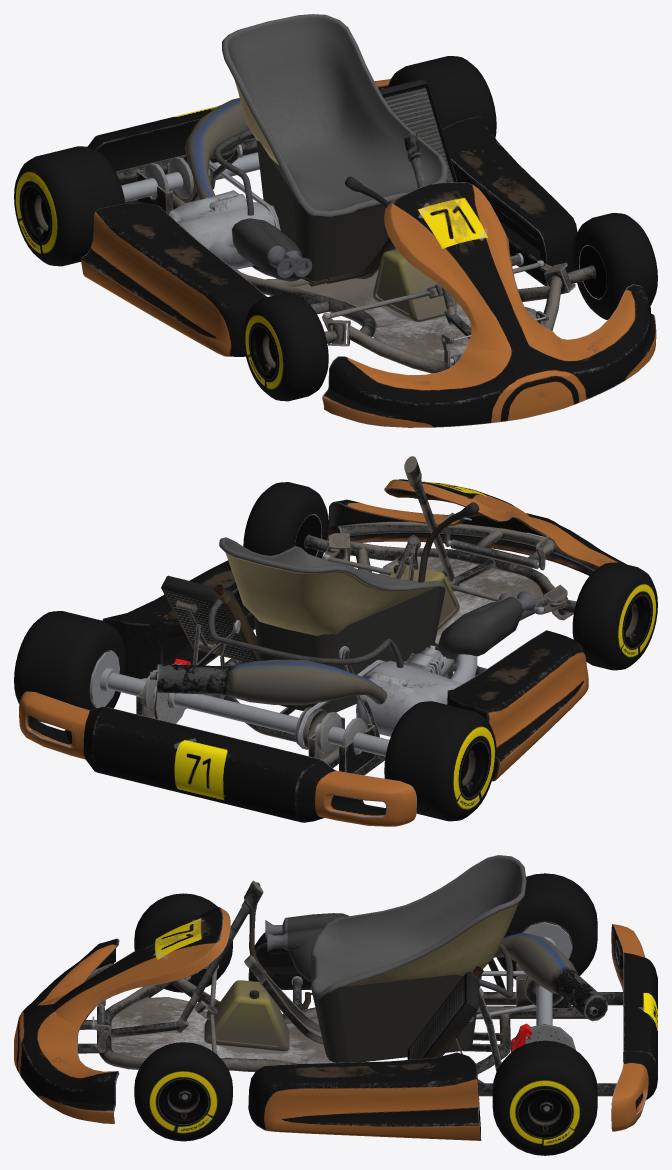
Rendered from racing125.glb.
3 renders of one model, top to bottom at view 1: azimuth 30°, elevation 25°; view 2: azimuth 150°, elevation 25°; view 3: azimuth 270°, elevation 25°, orthographic. The views are drawn at different scales.
Visible parts, largest first — view 1: body, wheelRL, wheelFL, wheelFR, wheelRR; view 2: body, wheelRL, wheelRR, wheelFL, wheelFR; view 3: body, wheelRR, wheelFR, wheelRL, wheelFL.
Boxes of the visible parts, x1=… form: body: x1=81, y1=14, x2=656, y2=427; wheelRL: x1=14, y1=146, x2=125, y2=266; wheelFL: x1=243, y1=293, x2=328, y2=401; wheelFR: x1=572, y1=213, x2=657, y2=319; wheelRR: x1=387, y1=56, x2=496, y2=137; body: x1=19, y1=456, x2=626, y2=826; wheelRL: x1=384, y1=701, x2=496, y2=821; wheelRR: x1=14, y1=611, x2=126, y2=722; wheelFL: x1=572, y1=562, x2=657, y2=670; wheelFR: x1=243, y1=482, x2=328, y2=558; body: x1=14, y1=855, x2=657, y2=1140; wheelRR: x1=492, y1=1040, x2=597, y2=1155; wheelFR: x1=134, y1=1042, x2=232, y2=1141; wheelRL: x1=496, y1=873, x2=597, y2=979; wheelFL: x1=134, y1=893, x2=232, y2=992.
Size of the model in its own units: 1.6 by 0.6945 by 2.2.
3 materials, 3 textured.
